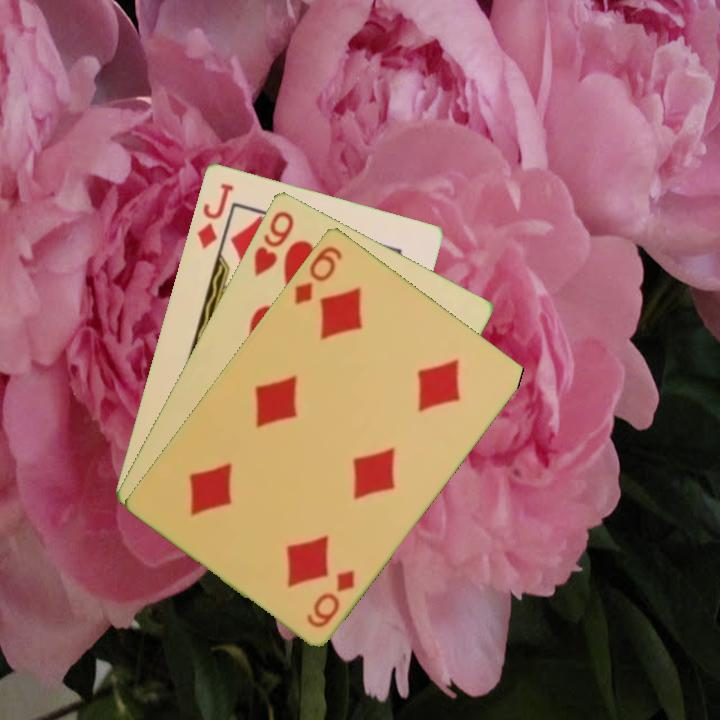6d: (302, 565, 358, 630), (290, 242, 345, 307)
9h: (250, 206, 297, 279)
Jd: (193, 179, 236, 252)
